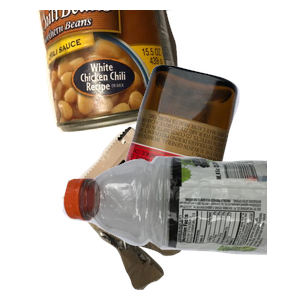glass: (113, 62, 300, 242)
metal: (34, 10, 213, 135)
plastic: (60, 152, 300, 300)
trash: (59, 124, 273, 300)
